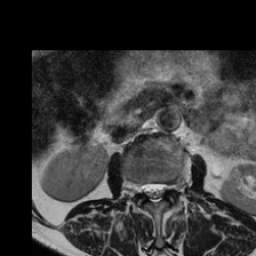CCS_normal: (151, 174, 159, 211)
LFS_stenosis: (167, 170, 175, 199)
LLS_normal: (159, 174, 167, 205)
RFS_normal: (133, 173, 141, 198)
RLS_normal: (141, 175, 151, 202)
